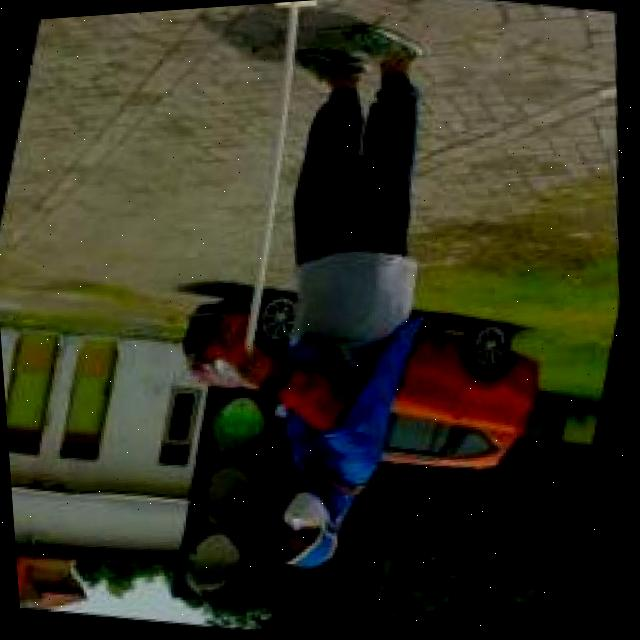green_light: (154, 376, 310, 618)
